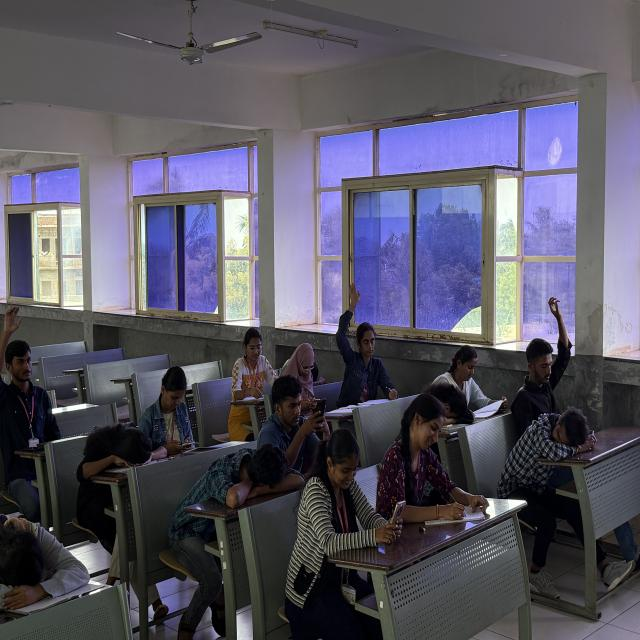Hand Rising: (0, 295, 63, 475), (332, 278, 402, 406), (511, 290, 573, 415)
Reading: (434, 343, 509, 414), (229, 325, 279, 405)
Sleeping: (190, 436, 306, 534), (0, 503, 96, 620), (505, 409, 598, 513), (76, 422, 170, 504), (420, 381, 486, 436)
Using Phone: (298, 426, 407, 597), (255, 373, 335, 462), (136, 361, 200, 459), (278, 340, 328, 406)
